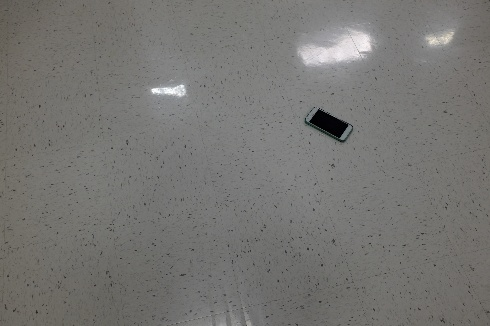phone: (304, 108, 353, 140)
